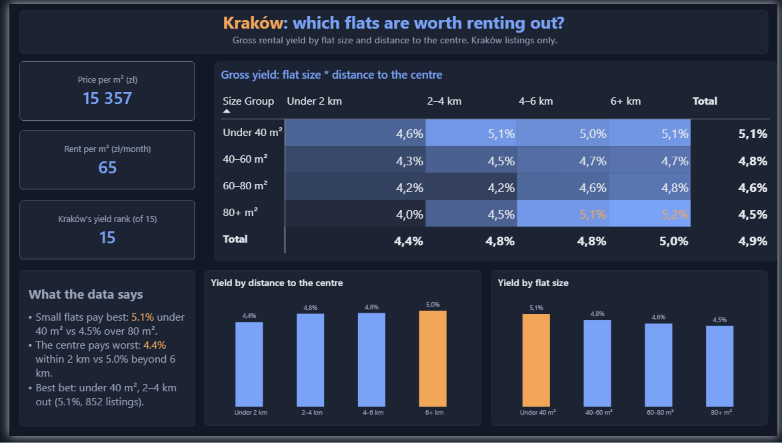

The page's visual inventory and layout, read from the dashboard file:
{"tool":"powerbi","page":{"name":"Kraków deep dive","canvas":[1920,1080],"ordinal":1},"visuals":[{"type":"columnChart","title":"Yield by flat size","fields":{"Category":["Size Groups.Size Group"],"Y":["_Measures.Gross Rental Yield"]},"box":[1204,666,692,390],"z":0},{"type":"columnChart","title":"Yield by distance to the centre","fields":{"Category":["Distance Groups.Distance Group"],"Y":["_Measures.Gross Rental Yield"]},"box":[488,666,692,390],"z":1000},{"type":"pivotTable","title":"Gross yield: flat size * distance to the centre","fields":{"Columns":["Distance Groups.Distance Group"],"Rows":["Size Groups.Size Group"],"Values":["_Measures.Gross Rental Yield"]},"box":[512.5,142.5,1408,500],"z":2000},{"type":"cardVisual","fields":{"Data":["_Measures.Median Price per m2"]},"box":[24,142,440,150],"z":3000},{"type":"cardVisual","fields":{"Data":["_Measures.Median Rent per m2"]},"box":[24,316,440,150],"z":4000},{"type":"cardVisual","fields":{"Data":["_Measures.Krakow Rank"]},"box":[24,490,440,150],"z":5000},{"type":"textbox","box":[24,16,1872,110],"z":6000},{"type":"textbox","box":[24,664,440,392],"z":7000}]}

Visuals, with their boxes in screenshot pixels (x1, y1, x2, y2), scaled from the page's 1920x1080 canvas onto the 782x443 screenshot:
"Yield by flat size" columnChart: bbox=(490, 273, 772, 433)
"Yield by distance to the centre" columnChart: bbox=(199, 273, 481, 433)
"Gross yield: flat size * distance to the centre" pivotTable: bbox=(209, 58, 781, 264)
cardVisual - _Measures.Median Price per m2: bbox=(10, 58, 189, 120)
cardVisual - _Measures.Median Rent per m2: bbox=(10, 130, 189, 191)
cardVisual - _Measures.Krakow Rank: bbox=(10, 201, 189, 263)
textbox: bbox=(10, 7, 772, 52)
textbox: bbox=(10, 272, 189, 433)
